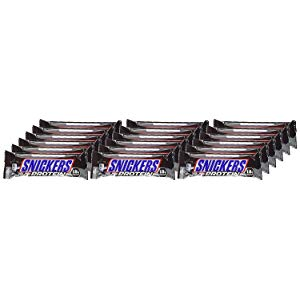snickers: (21, 158, 72, 169), (108, 159, 159, 170), (195, 158, 246, 169)
